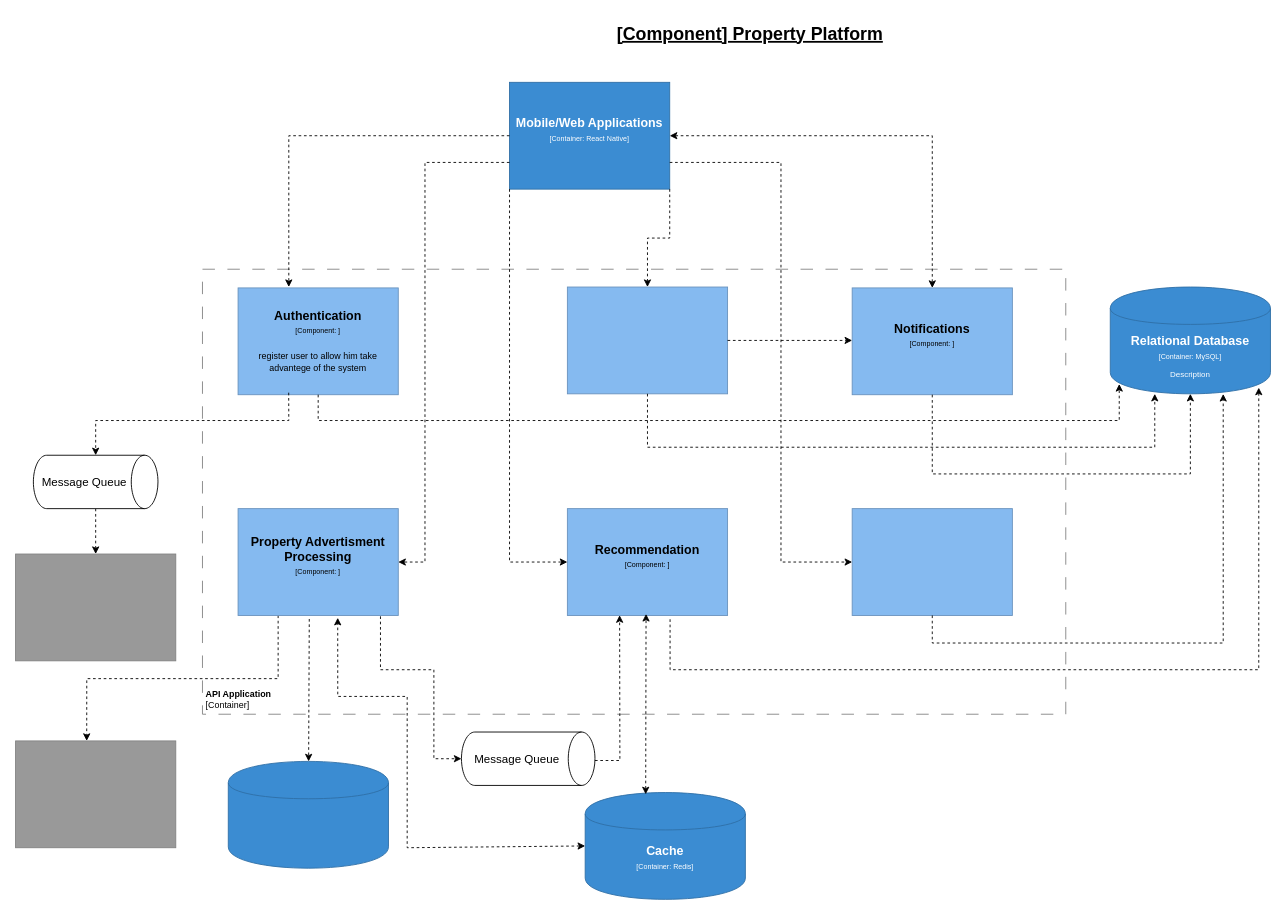
Image size: 1286x915. Some labels were removed from this diagram. Each missing label, with the centre of its shape:
"Blog [Component: ]" goes at point 931,561.
"Cloud Storage [Software System ] to store the images of the properties" goes at point 95,794.
"Email Service [Software System ] to send verification emails" goes at point 95,607.
"NoSQL Database [Container: MongoDB] Description" goes at point 307,814.
"Reservation [Component: ]" goes at point 647,340.
